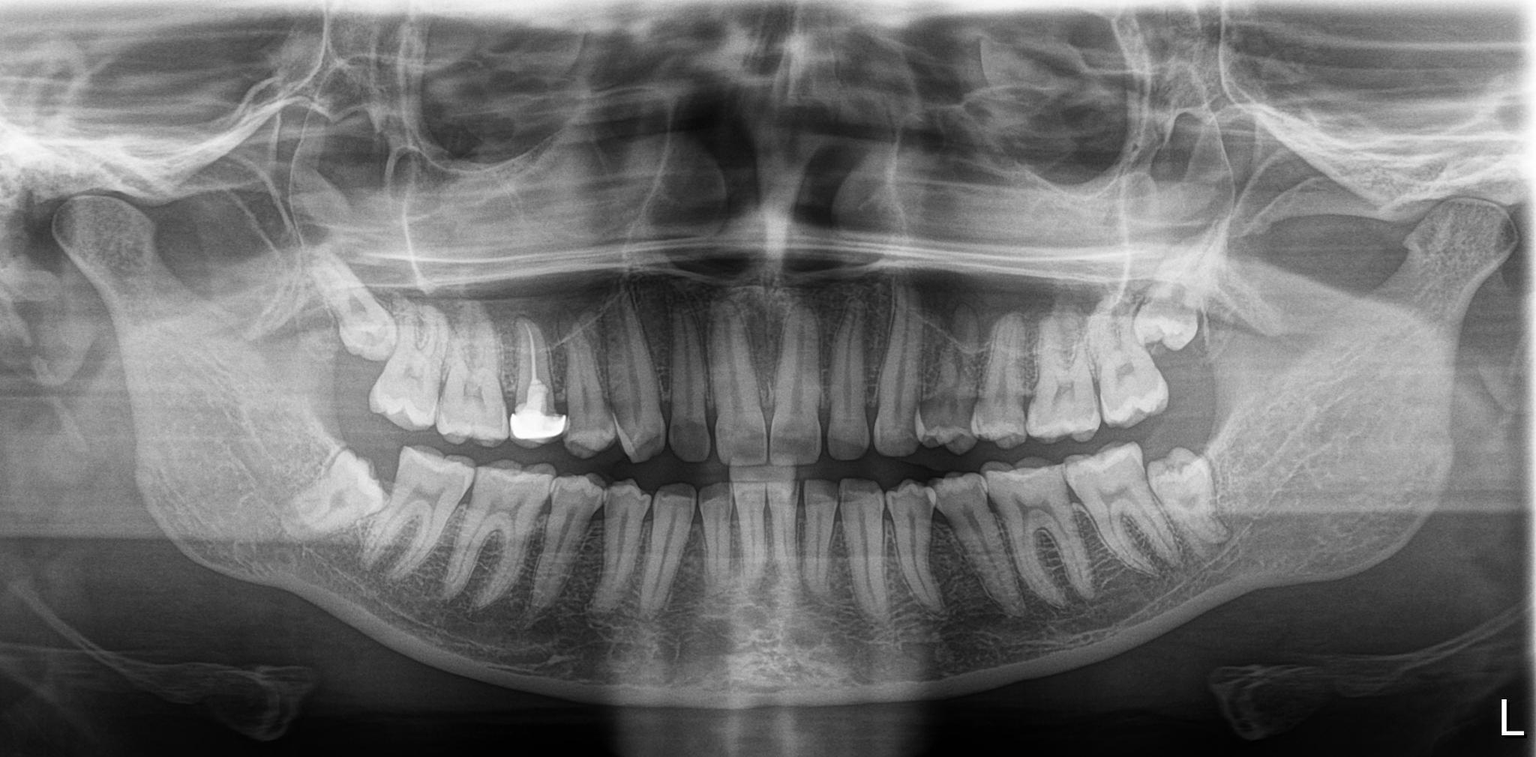Endodontically Treated Tooth: (519, 317, 569, 451)
Impacted Third Molar: (1151, 452, 1250, 565), (274, 448, 379, 531), (308, 279, 391, 366), (1134, 277, 1210, 360)
